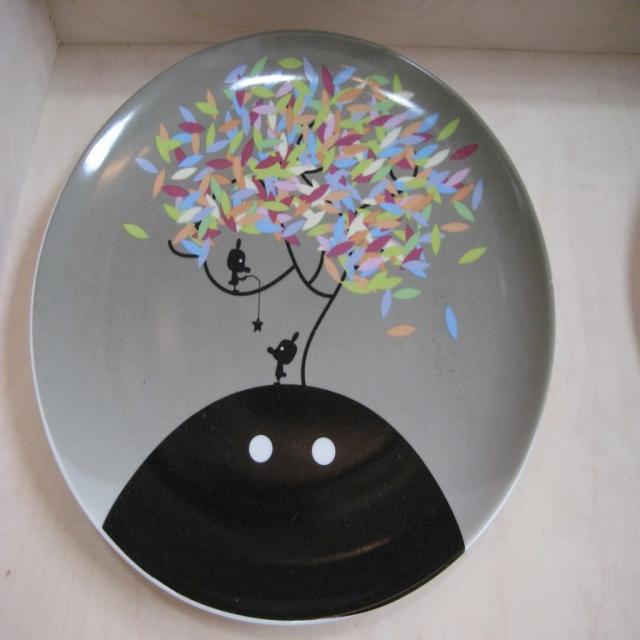ceramic plate: (33, 17, 550, 616)
